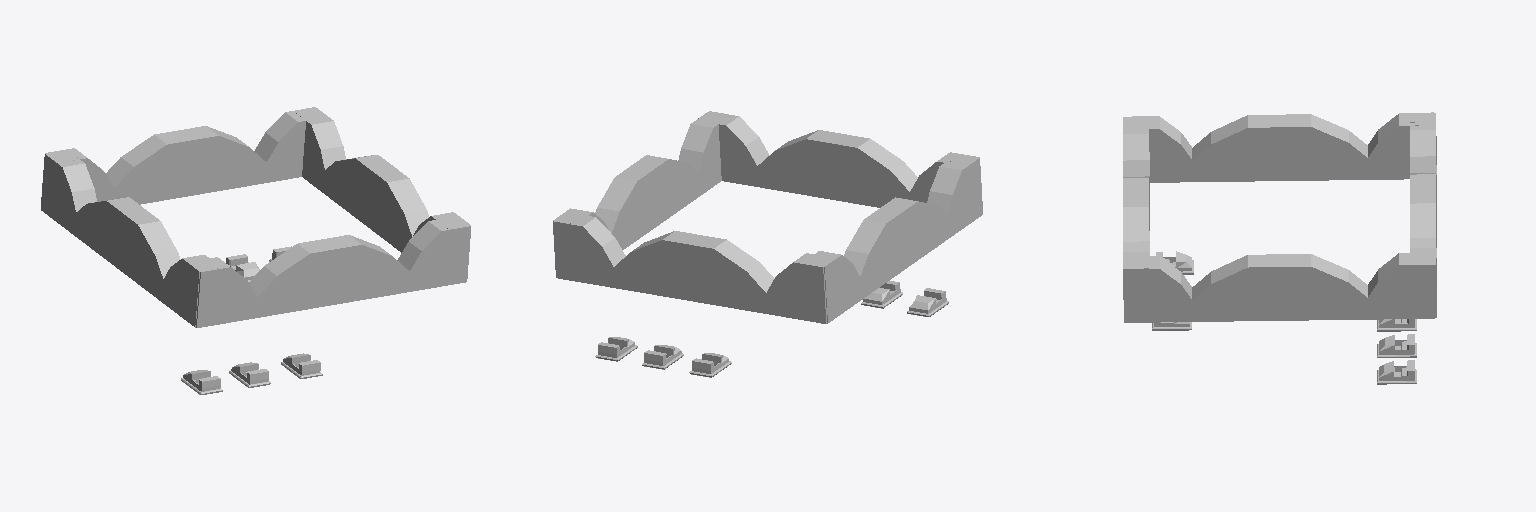
Rendered from Ingang Minigame 1 Part 2.obj.
3 renders of one model, left to right at view 1: azimuth 30°, elevation 25°; view 2: azimuth 150°, elevation 25°; view 3: azimuth 270°, elevation 25°, orthographic.
Visible parts, largest first — view 1: MiniGame_1_1; view 2: MiniGame_1_1; view 3: MiniGame_1_1.
Part boxes in pixels (x1,y1,x2,y2): MiniGame_1_1: (41, 107, 470, 394); MiniGame_1_1: (553, 111, 982, 377); MiniGame_1_1: (1123, 112, 1436, 384).
Size of the model in its own units: 0.1632 by 0.0885 by 0.161.